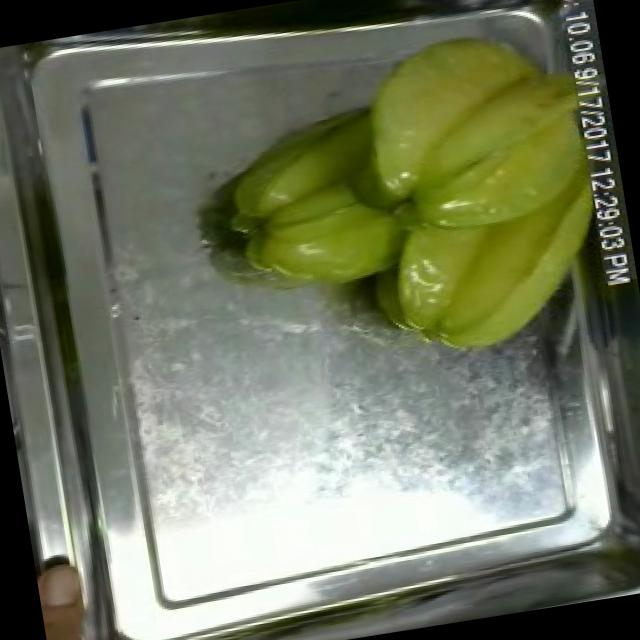fruit: (344, 5, 626, 372), (199, 83, 429, 312)
